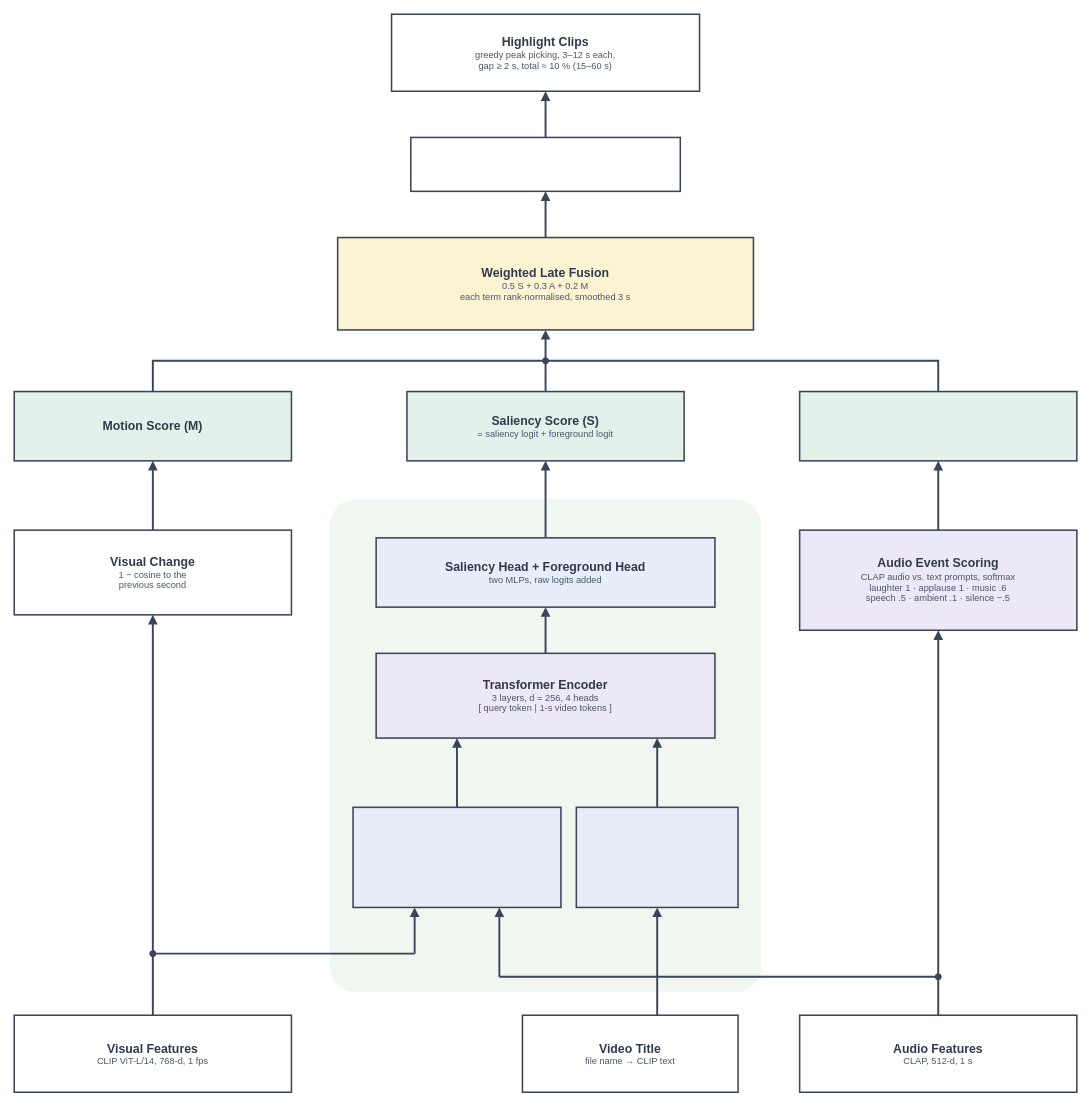
The diagram is 1090 pixels wide and 1106 high, and some of its shapes have lost their labels. Each missing label, with the box of its shape:
Audio Score (A): (798, 390, 1077, 461)
AV Fusion project CLIP + CLAP, concat → MLP, + positional enc.: (352, 806, 561, 908)
AV-UniVTG Head: (330, 499, 761, 992)
Highlight Score per second, 0–1: (410, 136, 681, 192)
Query Proj. title text embedding: (575, 806, 738, 908)
